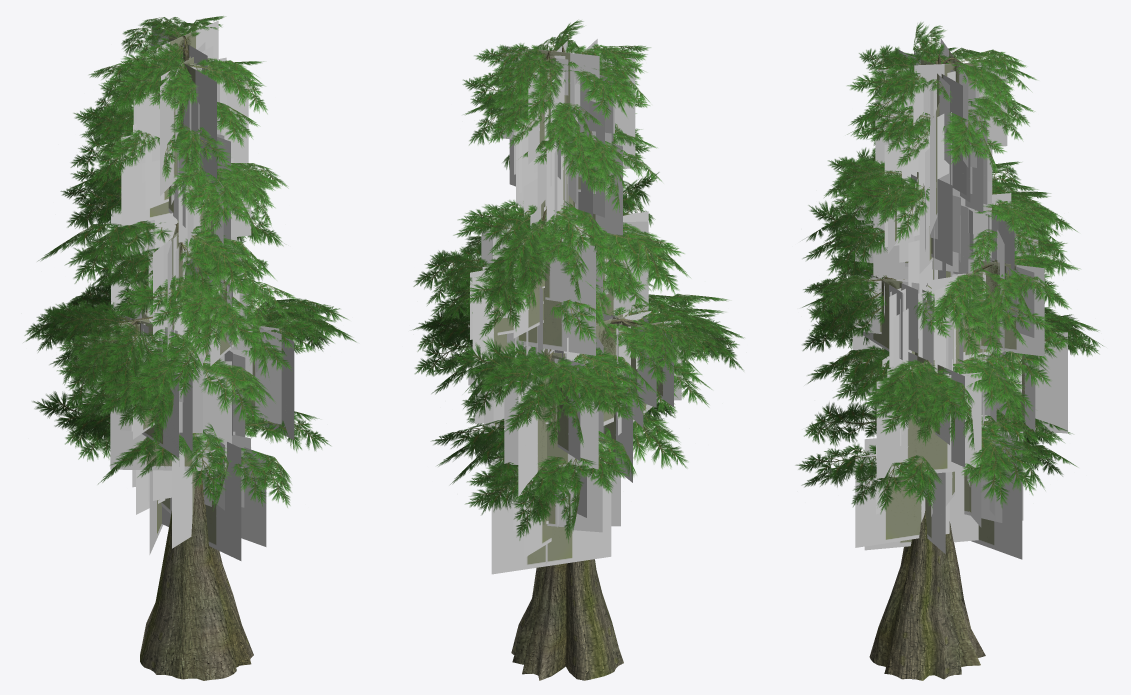
File: bald_cypress.glb
3 views of the same model, side by side, from view 1: azimuth 30°, elevation 25°; view 2: azimuth 150°, elevation 25°; view 3: azimuth 270°, elevation 25° (orthographic). The views are drawn at different scales.
Visible parts, largest first — view 1: cypres_chauve_cypreschauve_needles_D, cypres_chauve_CypresChauve_mousse_D, cypres_chauve_cypreschauve_bark_D; view 2: cypres_chauve_cypreschauve_needles_D, cypres_chauve_CypresChauve_mousse_D, cypres_chauve_cypreschauve_bark_D; view 3: cypres_chauve_cypreschauve_needles_D, cypres_chauve_CypresChauve_mousse_D, cypres_chauve_cypreschauve_bark_D.
Part boxes in pixels (bbox=[...]): cypres_chauve_cypreschauve_needles_D: bbox=[24, 16, 356, 510]; cypres_chauve_CypresChauve_mousse_D: bbox=[73, 20, 294, 560]; cypres_chauve_cypreschauve_bark_D: bbox=[121, 35, 253, 680]; cypres_chauve_cypreschauve_needles_D: bbox=[412, 20, 744, 542]; cypres_chauve_CypresChauve_mousse_D: bbox=[468, 39, 681, 574]; cypres_chauve_cypreschauve_bark_D: bbox=[511, 45, 651, 680]; cypres_chauve_cypreschauve_needles_D: bbox=[795, 22, 1102, 514]; cypres_chauve_CypresChauve_mousse_D: bbox=[852, 38, 1067, 559]; cypres_chauve_cypreschauve_bark_D: bbox=[869, 54, 999, 680].
Size of the model in its own units: 3.98 by 7.34 by 3.59.
3 materials, 3 textured.
